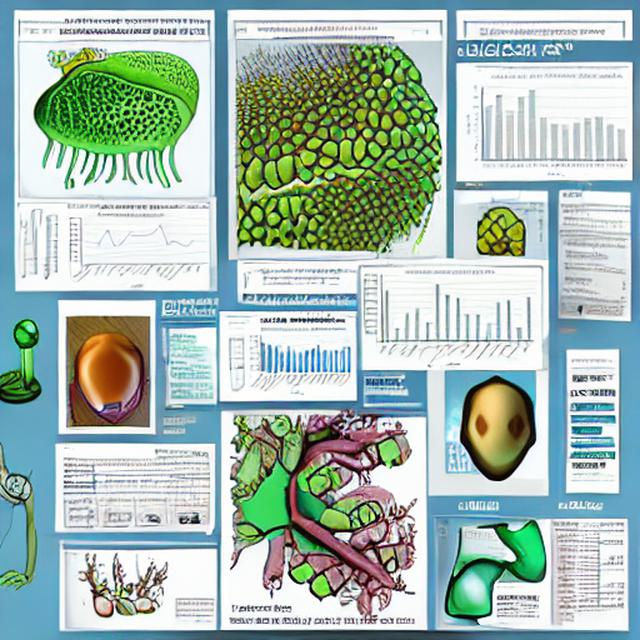Graph: (461, 72, 631, 177), (361, 268, 536, 368), (67, 213, 195, 288), (241, 327, 355, 396)
